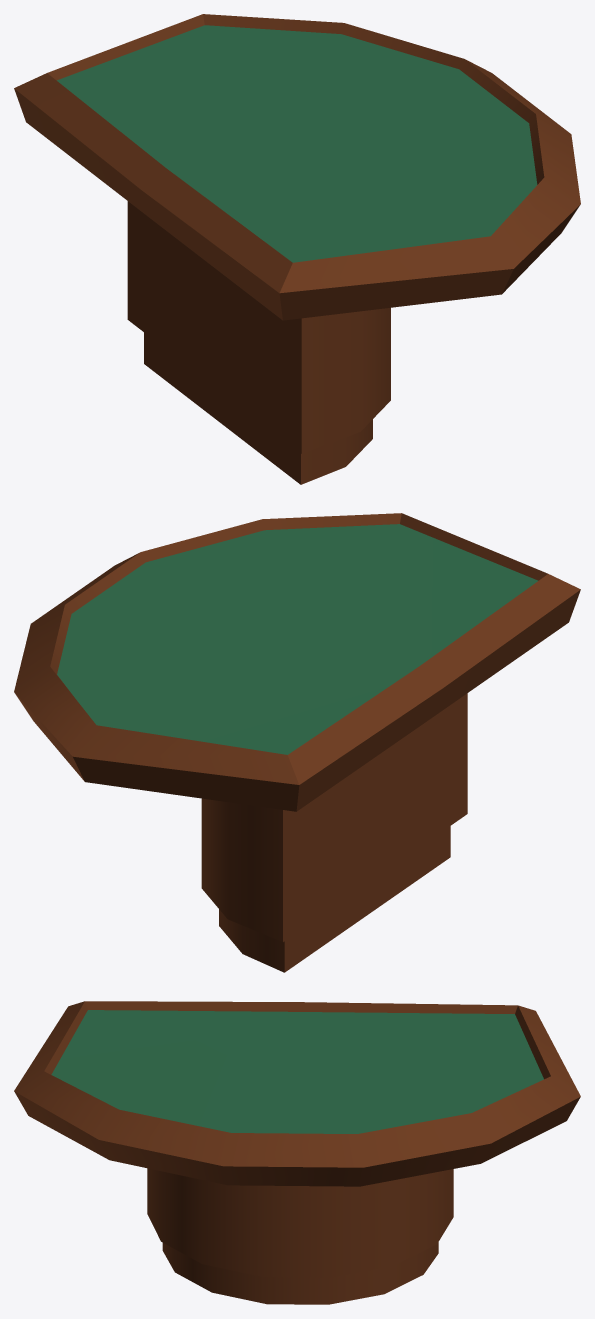
File: Black_Jack_Table.fbx
3 renders of one model, top to bottom at view 1: azimuth 30°, elevation 25°; view 2: azimuth 150°, elevation 25°; view 3: azimuth 270°, elevation 25°, orthographic. The views are drawn at different scales.
Visible parts, largest first — view 1: blackjack_Table1; view 2: blackjack_Table1; view 3: blackjack_Table1.
Part boxes in pixels (x1,y1,x2,y2): blackjack_Table1: (14, 14, 580, 484); blackjack_Table1: (14, 513, 580, 972); blackjack_Table1: (14, 1001, 580, 1304).
Bounding box in the file's own units: 24.26 × 16.41 × 36.39.
